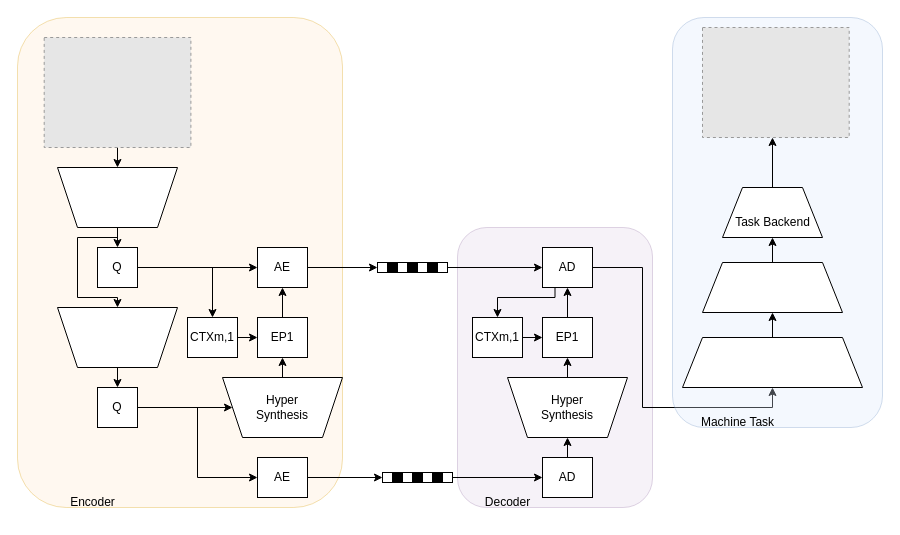
Image size: 900x535. Some labels were removed from this diagram. Grey dashed boxes stand in for pictures. Here are the shapes that lost their labels. From the top down, the centre of each, then its label:
At point (117, 197): "Analysis Encoder".
At point (772, 287): "Task Mid-point".
At point (117, 337): "Hyper Encoder".
At point (772, 362): "Latent Space Transform".
